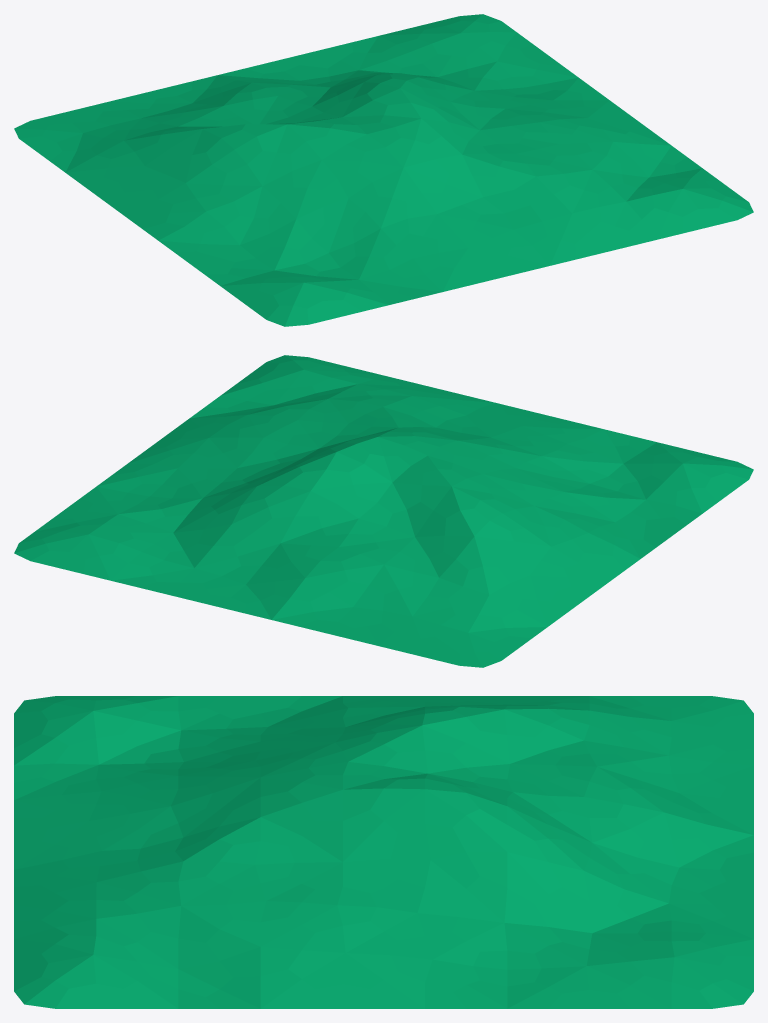
The model's file is ground-plane_03.fbx.
The picture shows the model from 3 angles, top to bottom: view 1: azimuth 30°, elevation 25°; view 2: azimuth 150°, elevation 25°; view 3: azimuth 270°, elevation 25°; orthographic projection. The views are drawn at different scales.
Visible parts, largest first — view 1: ground-plane_03; view 2: ground-plane_03; view 3: ground-plane_03.
Part boxes in pixels (x1,y1,x2,y2): ground-plane_03: [14, 14, 753, 326]; ground-plane_03: [14, 355, 753, 667]; ground-plane_03: [14, 696, 753, 1008].
Bounding box in the file's own units: 200 × 25 × 200.
